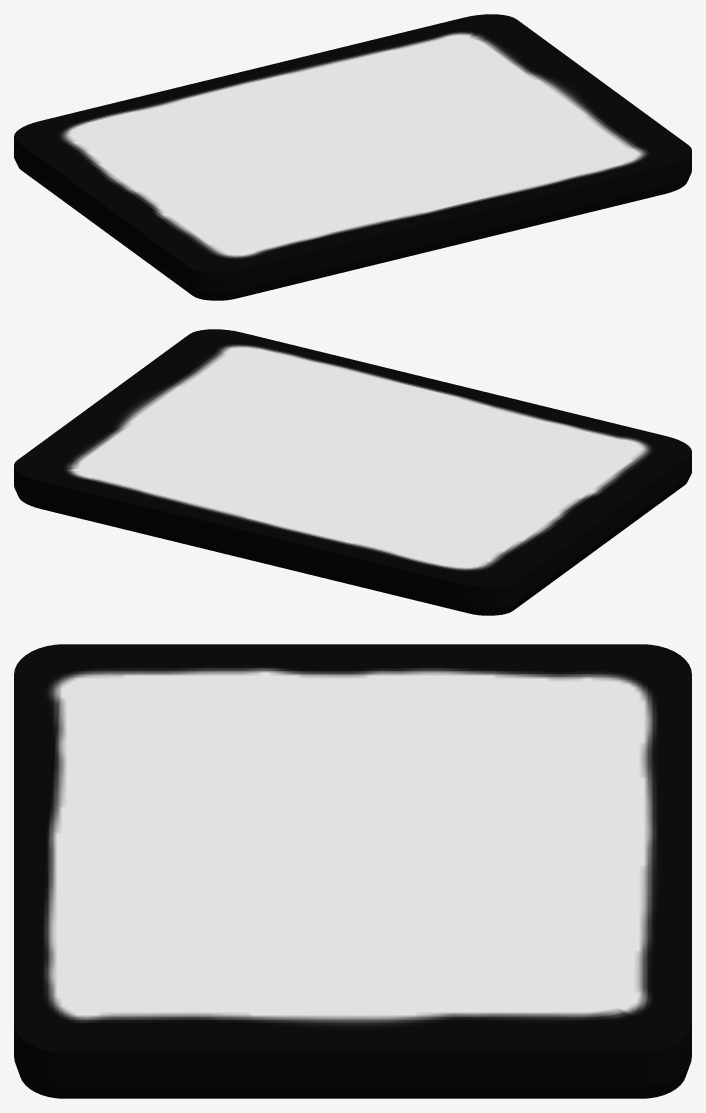
Rendered from tablet.fbx.
3 views of the same model, one above another, from view 1: azimuth 30°, elevation 25°; view 2: azimuth 150°, elevation 25°; view 3: azimuth 270°, elevation 25° (orthographic). The views are drawn at different scales.
Visible parts, largest first — view 1: Plane; view 2: Plane; view 3: Plane.
Part boxes in pixels (box(x1,y1,x2,y2)): Plane: box(14, 14, 691, 300); Plane: box(14, 329, 691, 615); Plane: box(14, 644, 691, 1098).
Bounding box in the file's own units: 219 × 13.92 × 154.
Materials: 1 (1 with a texture image).
